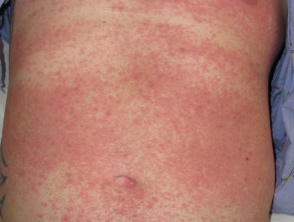SJS-TEN: (0, 0, 289, 222)
